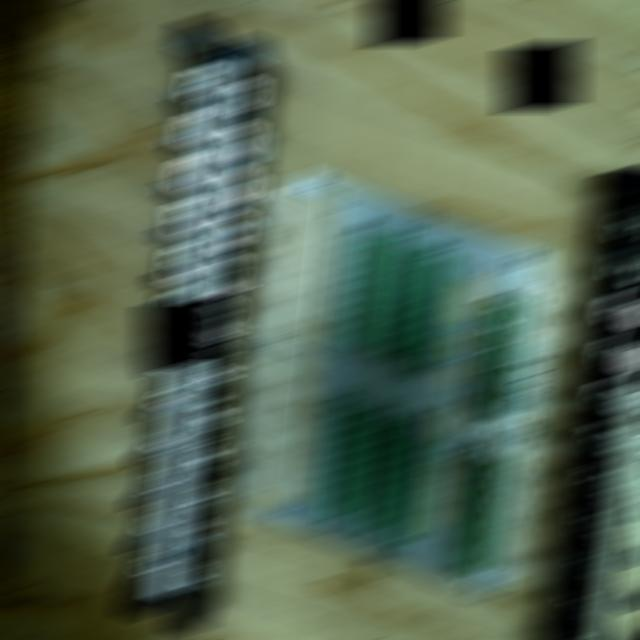Phillips_Block: (117, 20, 268, 633)
Terminal_1: (454, 450, 509, 572), (475, 298, 529, 417)
Terminal_2: (385, 430, 438, 543), (372, 241, 424, 355), (351, 417, 401, 529), (407, 255, 457, 367), (317, 403, 366, 515)
